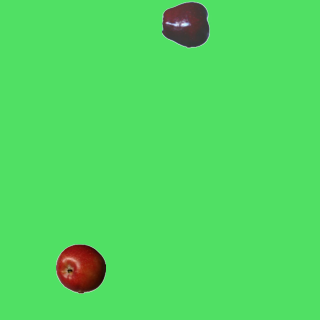Apple Braeburn: (55, 243, 105, 293)
Apple Red Delicious: (161, 0, 211, 49)
